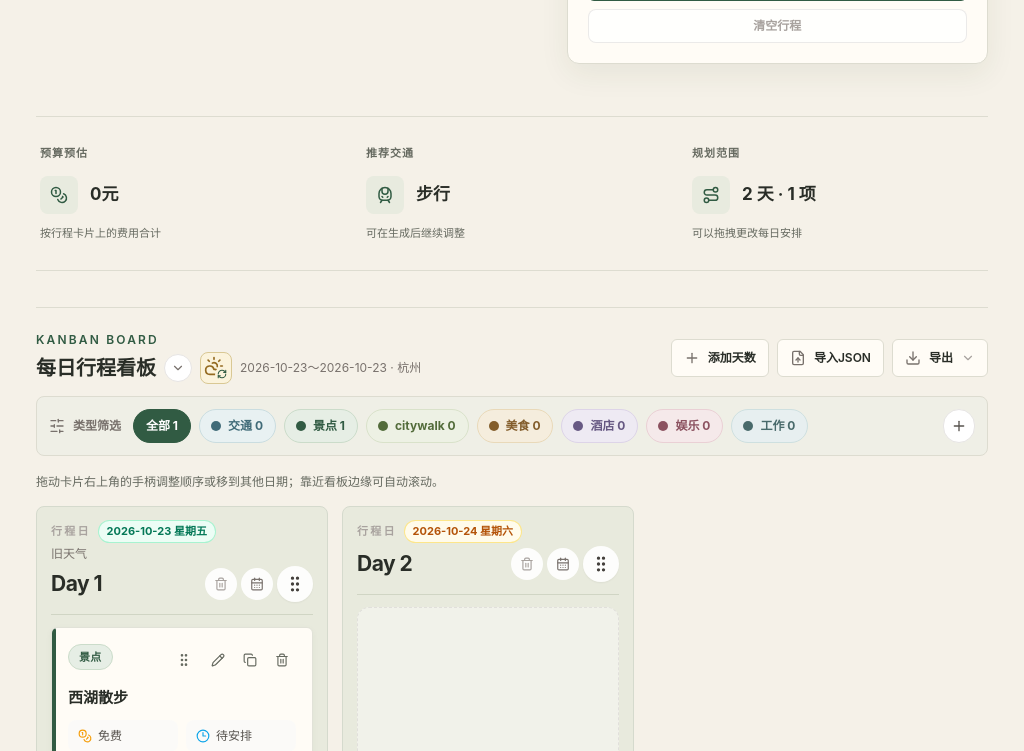
Test case: App key interactions › keeps the previous forecast and timestamp when a refresh fails
The width and height of the screenshot is (1024, 751).
(page scrolled)
Click the button named "更新天气".
click(216, 368)  # box [200,352,232,384]
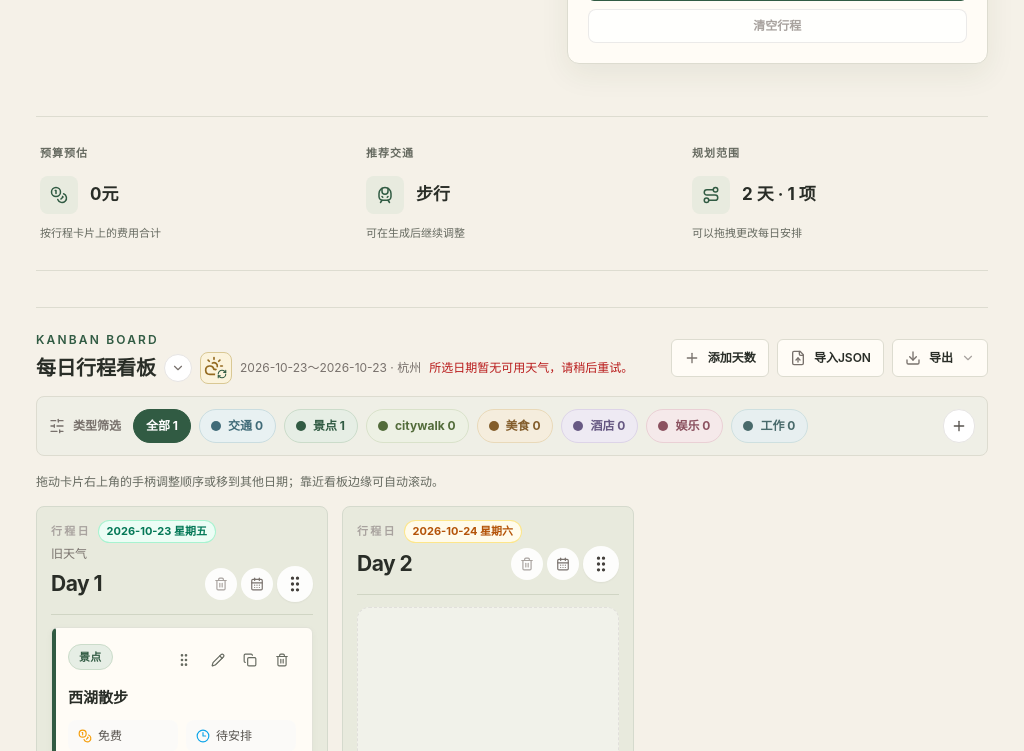
expect the text "旧天气" is shown: met, box [51,546,87,560]
expect the message reads "所选日期暂无可用天气，请稍后重试。": met, box [429,360,633,375]
